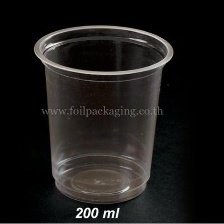glass: (30, 21, 177, 207)
